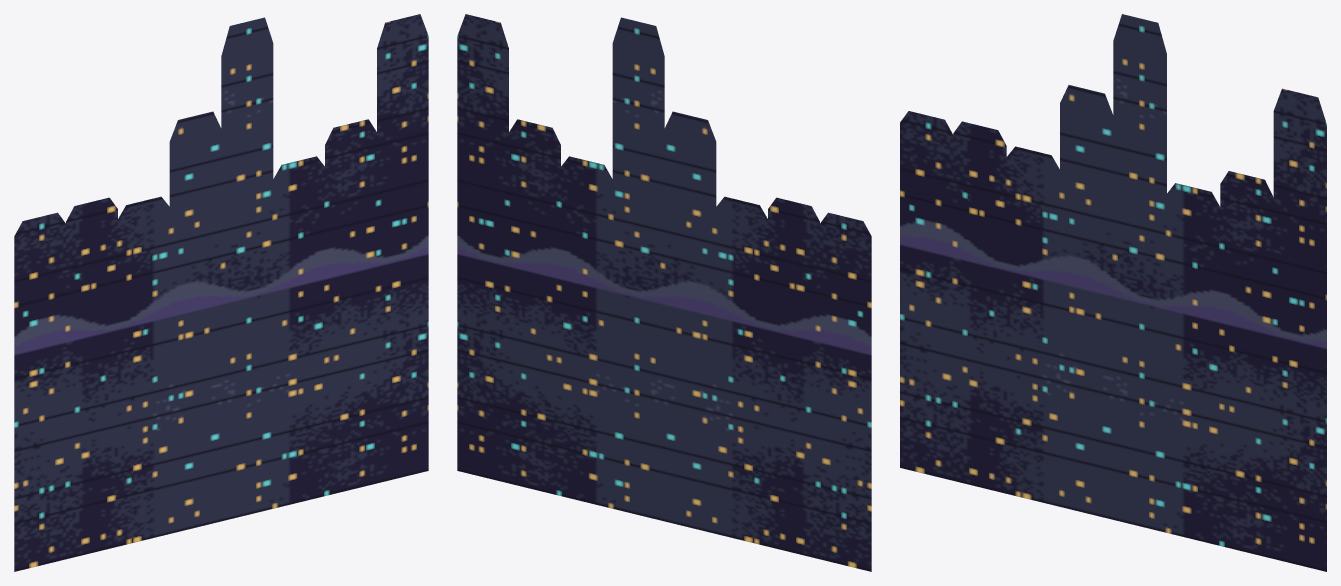
The model's file is cysky.near__tile.glb.
The picture shows the model from 3 angles, left to right: view 1: azimuth 30°, elevation 25°; view 2: azimuth 150°, elevation 25°; view 3: azimuth 330°, elevation 25°; orthographic projection. The views are drawn at different scales.
Parts seen in each view (by area): view 1: kit_card_skyline; view 2: kit_card_skyline; view 3: kit_card_skyline.
Part boxes in pixels (box(x1,y1,x2,y2)): kit_card_skyline: box(14, 14, 428, 571); kit_card_skyline: box(457, 14, 871, 571); kit_card_skyline: box(900, 14, 1326, 571).
Size of the model in its own units: 24 by 27.3 by 0.
1 material, 1 textured.
